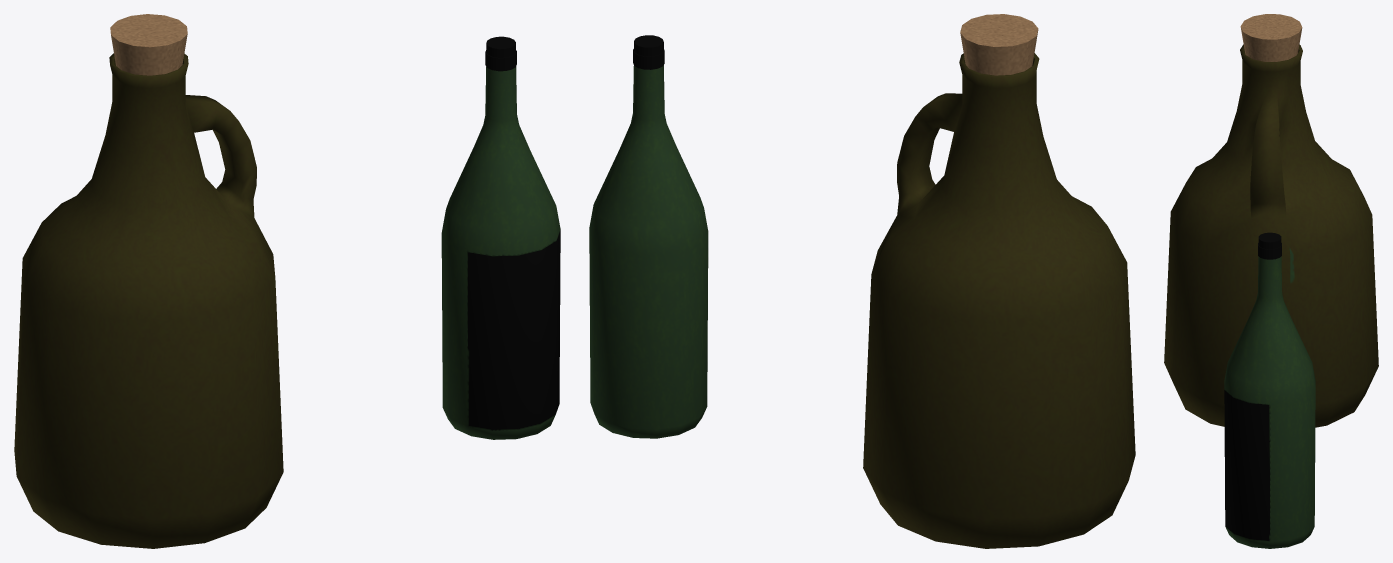
The model's file is wine bottles.fbx.
The picture shows the model from 3 angles, left to right: view 1: azimuth 30°, elevation 25°; view 2: azimuth 150°, elevation 25°; view 3: azimuth 270°, elevation 25°; orthographic projection. The views are drawn at different scales.
Parts seen in each view (by area): view 1: BigWine, SmallWine; view 2: BigWine, SmallWine; view 3: BigWine, SmallWine.
Part boxes in pixels (bbox=[...]): BigWine: bbox=[14, 14, 283, 548]; SmallWine: bbox=[441, 36, 560, 439]; BigWine: bbox=[863, 14, 1135, 548]; SmallWine: bbox=[589, 35, 708, 438]; BigWine: bbox=[1164, 14, 1378, 427]; SmallWine: bbox=[1224, 232, 1315, 548].
Bounding box in the file's own units: 0.6756 × 0.6005 × 0.3085.
